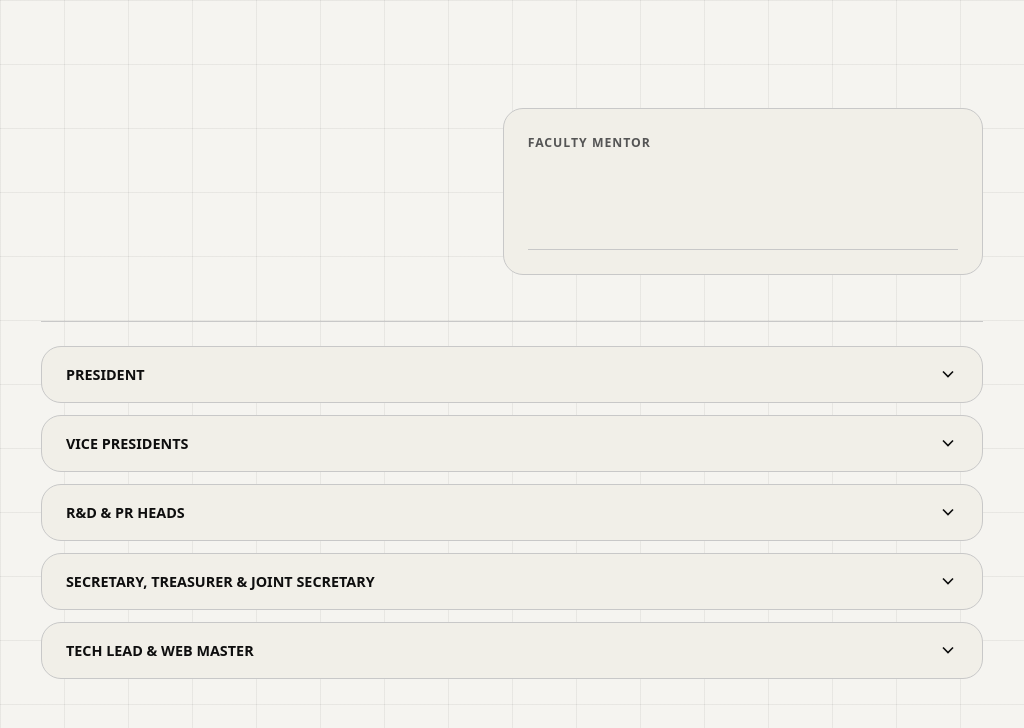
Test: Team › renders the placeholder roster and opens and closes role panels
The image size is (1024, 728).
Click the button "VICE PRESIDENTS". click: (127,443)
box: [42,416,982,471]
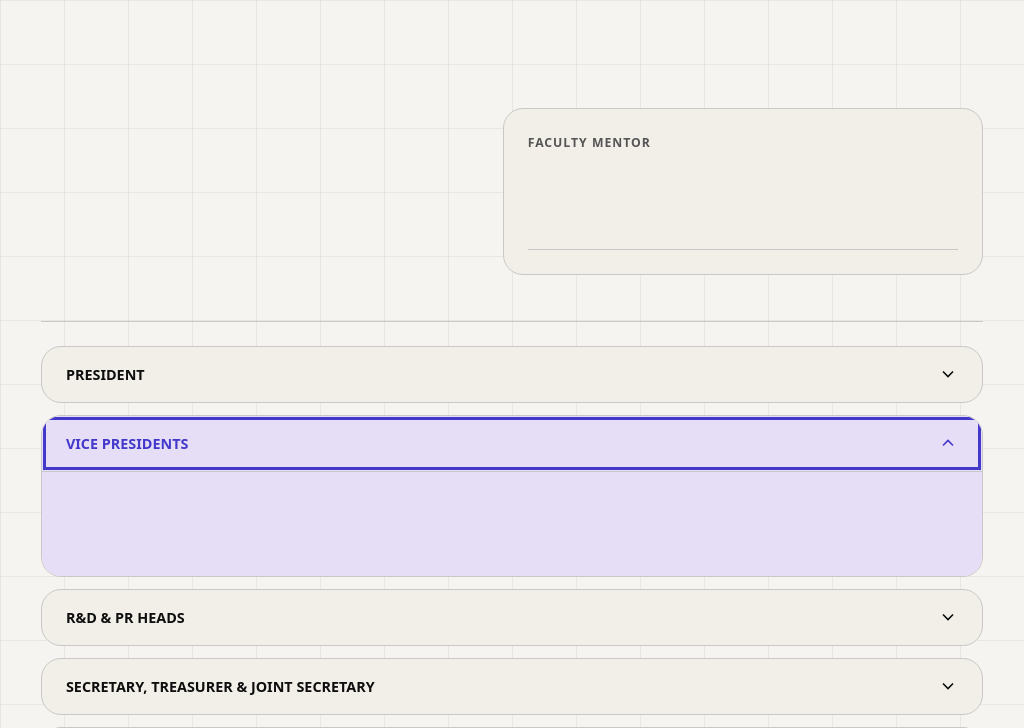
Check: the button "VICE PRESIDENTS" is expanded
Click the button "VICE PRESIDENTS". click: (127,443)
box: [42,416,982,471]
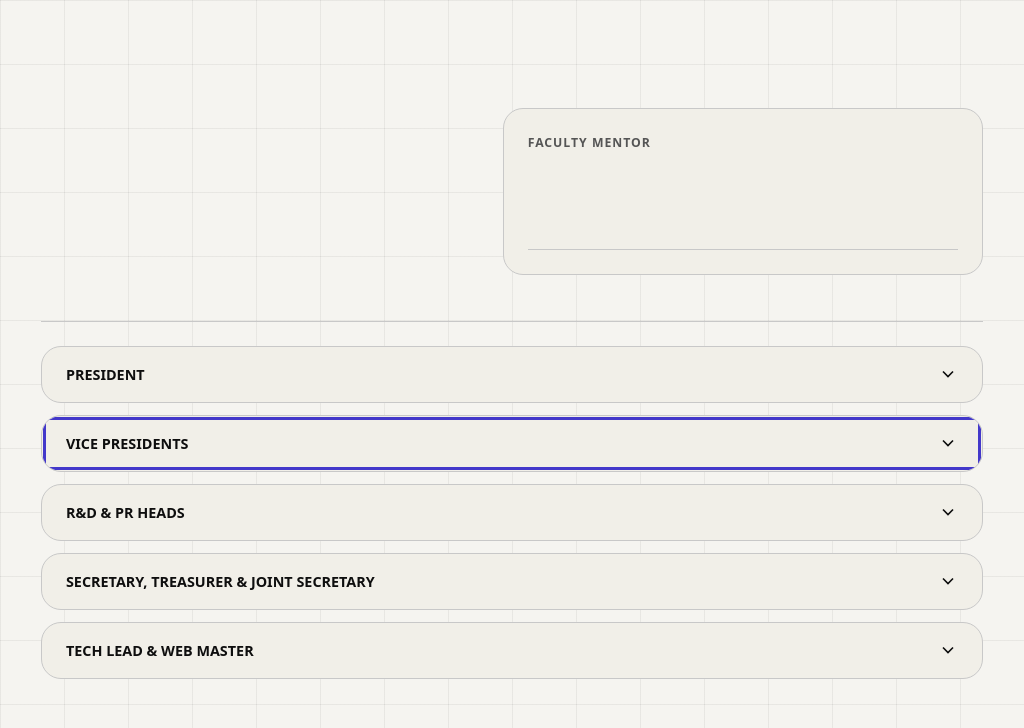
Check: the button "VICE PRESIDENTS" is collapsed, box [42,416,982,471]
